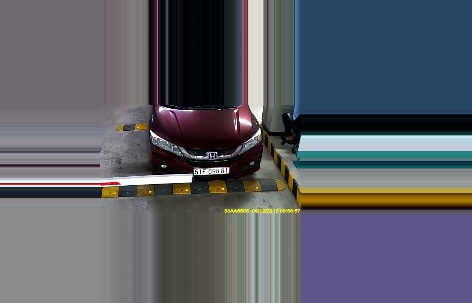plate: (192, 163, 229, 175)
